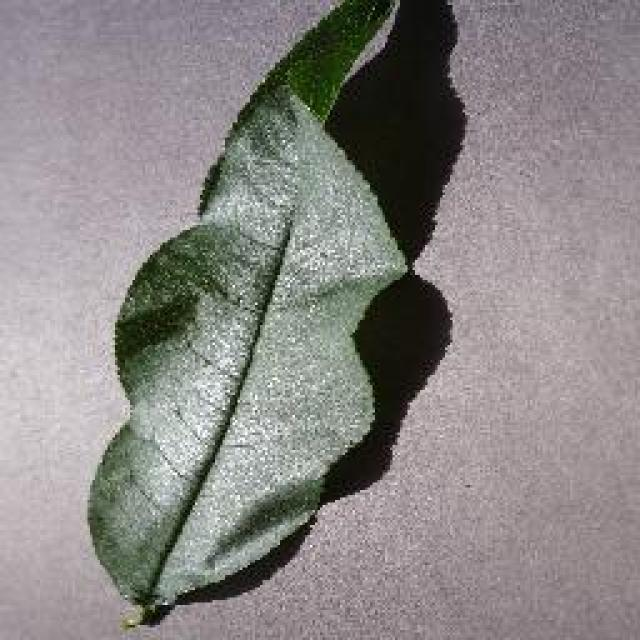Pea_healthy: (129, 44, 405, 555)
